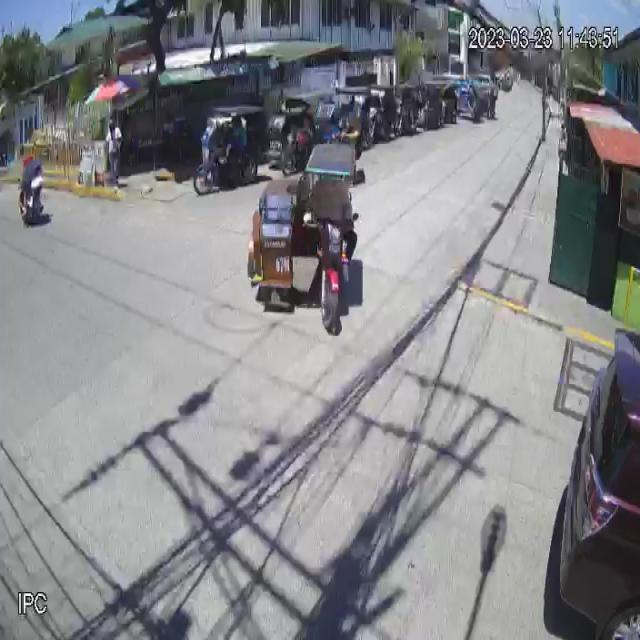Tricycle: (246, 141, 360, 331)
